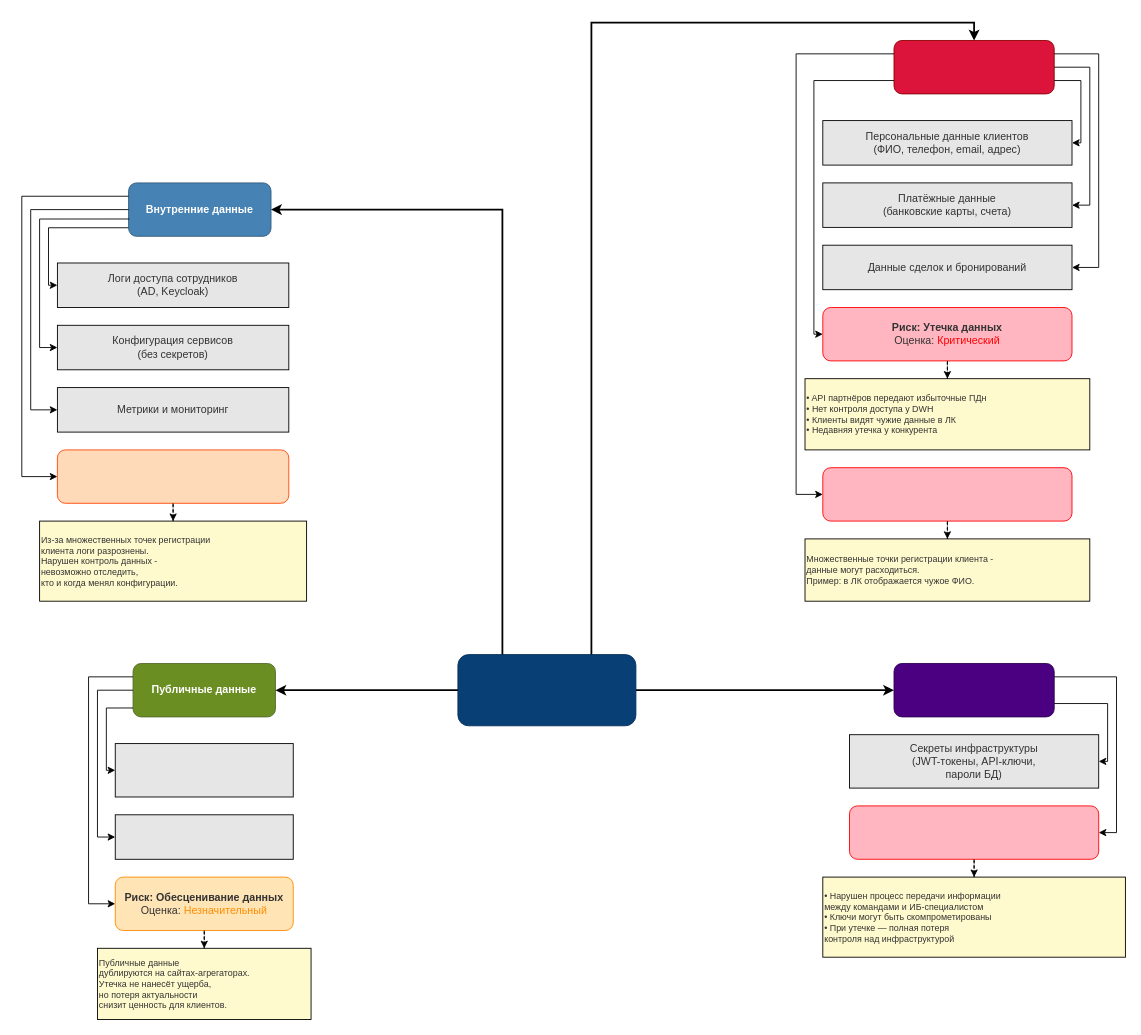
The diagram is 1141 pixels wide and 1035 high, and some of its shapes have lost their labels. The box of each missing label's shape, as (x1, y1, x2, y2) in pixels:
Безопасность данных PropDevelopment: (457, 654, 636, 726)
Информация о ЖК (адреса, кол-во этажей, планировки): (114, 743, 293, 797)
Конфиденциальные данные: (893, 40, 1054, 94)
Риск: Искажение данных Оценка: Критический: (822, 467, 1072, 521)
Риск: Некачественные данные Оценка: Значительный: (57, 449, 289, 503)
Риск: Потеря / Утечка данных Оценка: Критический: (849, 805, 1099, 859)
Секретные данные: (893, 663, 1054, 717)
Стоимость квартир: (114, 814, 293, 859)
